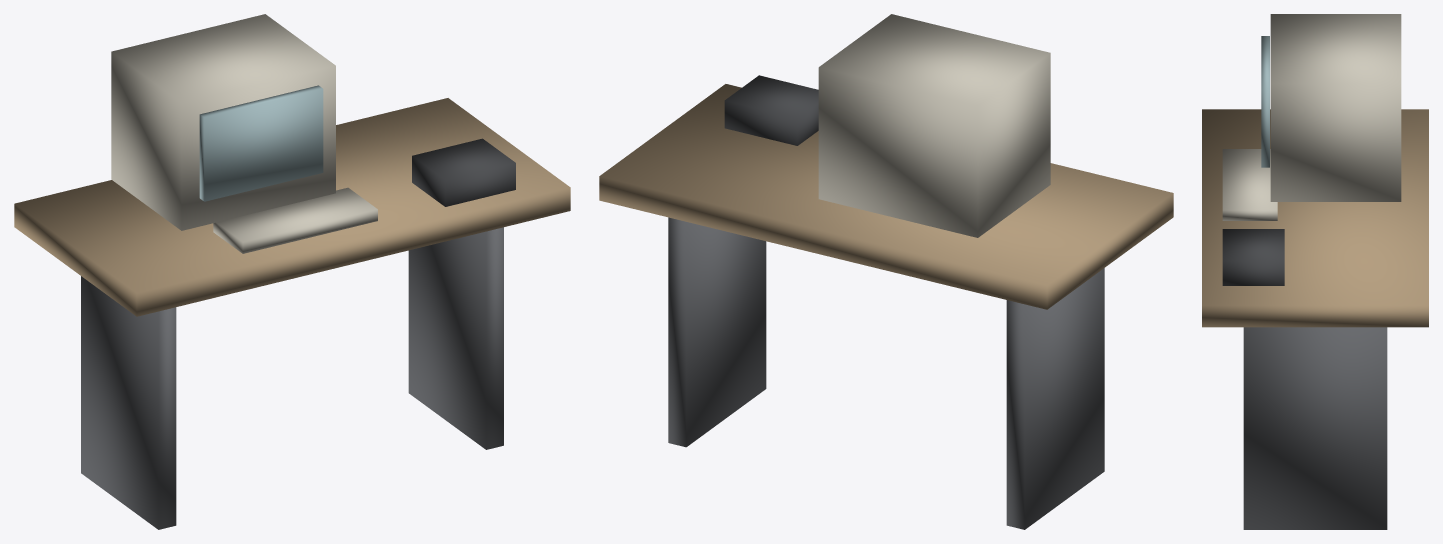
File: crt_workstation.glb
The picture shows the model from 3 angles, left to right: view 1: azimuth 30°, elevation 25°; view 2: azimuth 150°, elevation 25°; view 3: azimuth 270°, elevation 25°; orthographic projection. The views are drawn at different scales.
Visible parts, largest first — view 1: world; view 2: world; view 3: world.
Boxes of the visible parts, x1=… form: world: x1=14, y1=14, x2=570, y2=529; world: x1=599, y1=14, x2=1173, y2=529; world: x1=1202, y1=14, x2=1428, y2=529.
Size of the model in its own units: 1.35 by 1.21 by 0.66.
